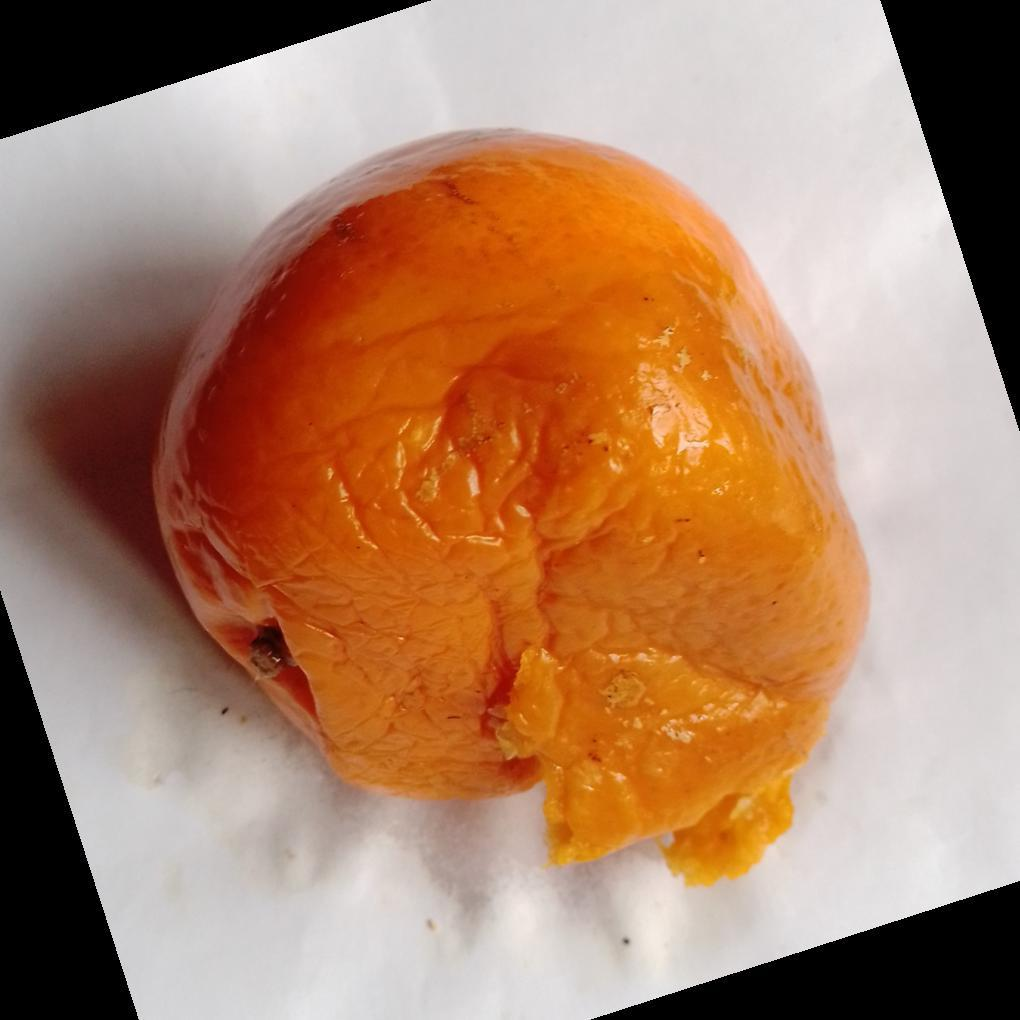FreshOrange: (148, 128, 871, 893)
